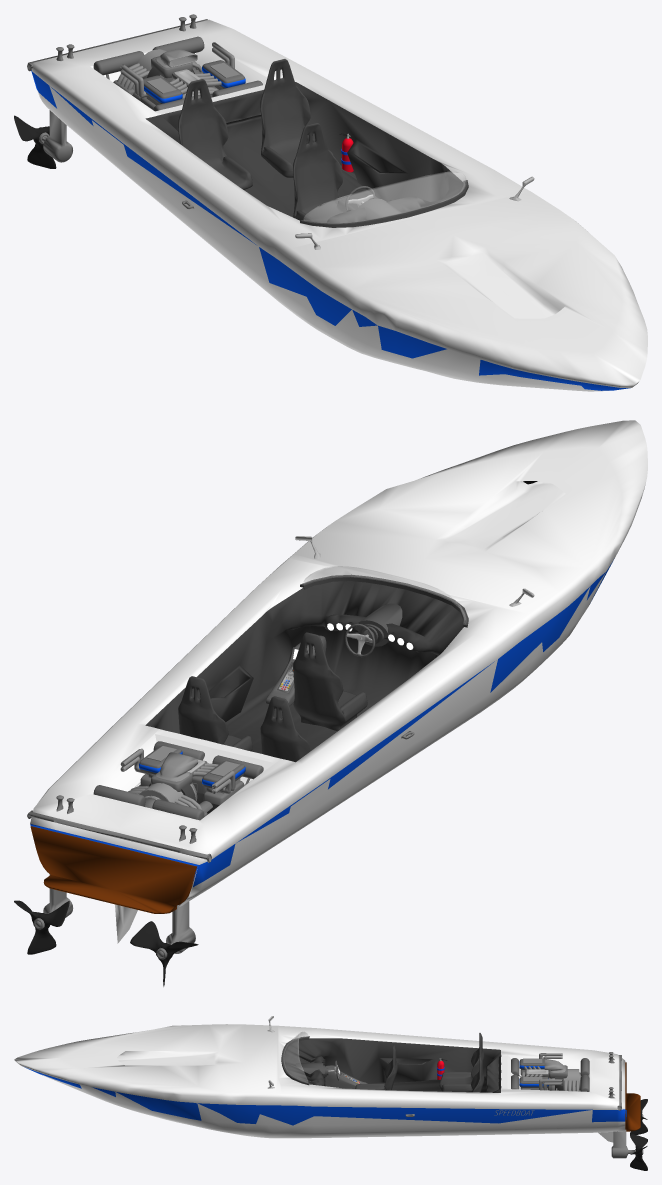
Rendered from skiff_cc.glb.
3 renders of one model, top to bottom at view 1: azimuth 30°, elevation 25°; view 2: azimuth 150°, elevation 25°; view 3: azimuth 270°, elevation 25°, orthographic. The views are drawn at different scales.
Parts seen in each view (by area): view 1: dock; view 2: dock; view 3: dock.
Part boxes in pixels (left/top/right/bottom): dock: left=14, top=14, right=647, bottom=391; dock: left=14, top=420, right=647, bottom=986; dock: left=14, top=1016, right=647, bottom=1170.
Bounding box in the file's own units: 1.67 × 1.15 × 6.25.
43 materials, 1 textured.
